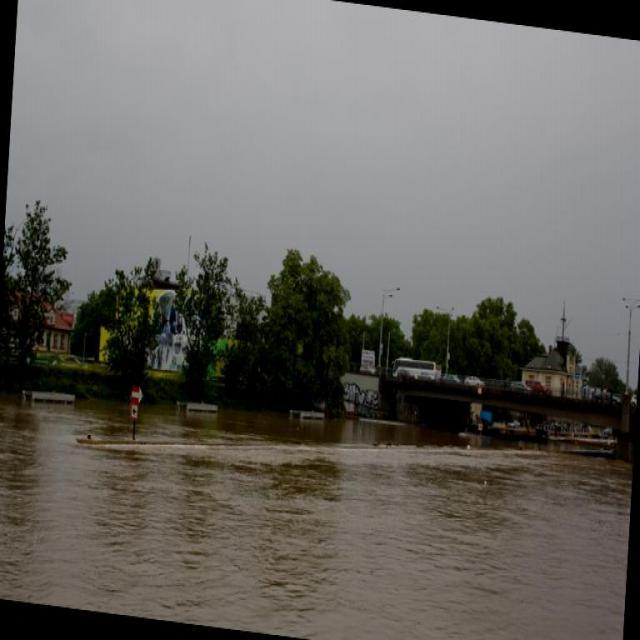flood: (0, 348, 636, 639)
